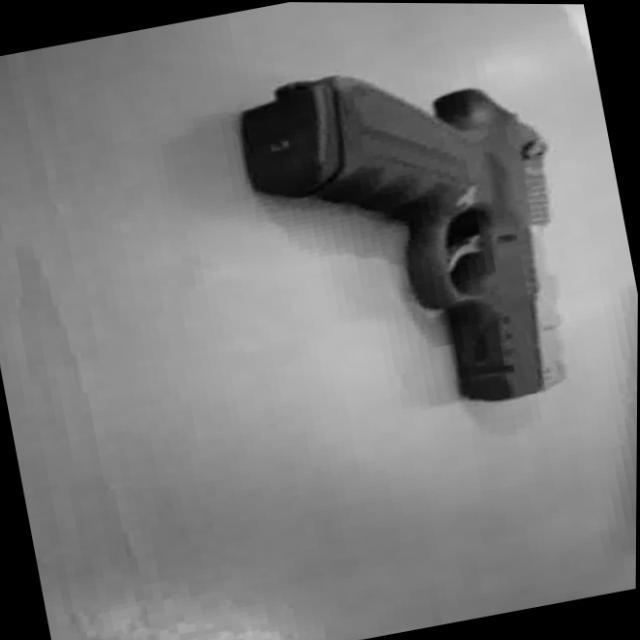weapon: (228, 34, 595, 441)
